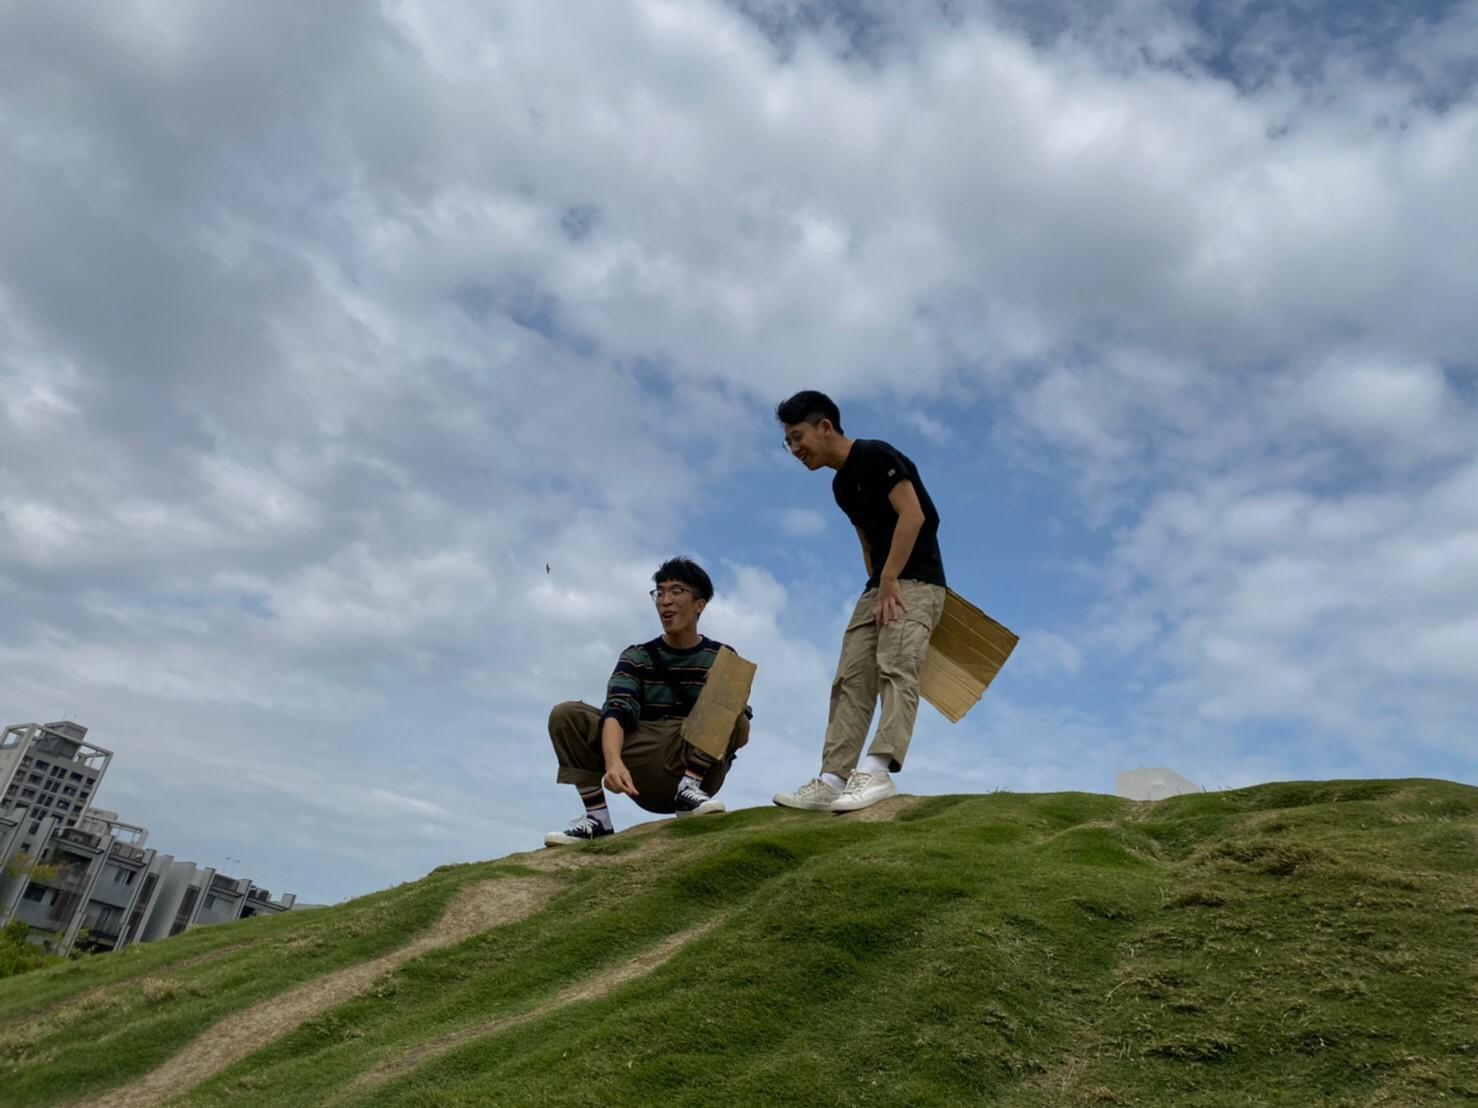people: (777, 386, 938, 821), (590, 557, 761, 832)
